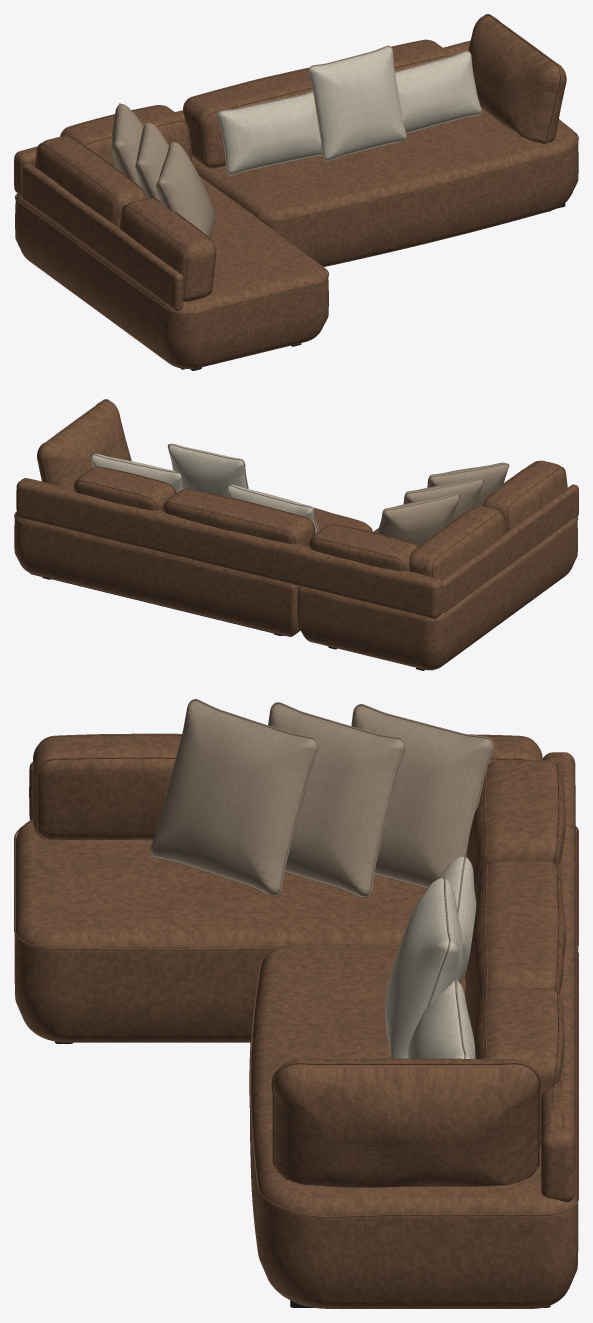
File: corner.glb
The picture shows the model from 3 angles, top to bottom: view 1: azimuth 30°, elevation 25°; view 2: azimuth 150°, elevation 25°; view 3: azimuth 270°, elevation 25°; orthographic projection. The views are drawn at different scales.
Parts seen in each view (by area): view 1: fabric (×2), accent (×3); view 2: fabric (×2), accent (×3); view 3: fabric (×2), accent (×3).
Boxes of the visible parts, x1,y1,x2,y2 form: fabric (×2): (14, 14, 578, 368); accent (×3): (111, 45, 481, 237); fabric (×2): (14, 399, 578, 670); accent (×3): (90, 443, 509, 545); fabric (×2): (14, 733, 578, 1308); accent (×3): (150, 699, 493, 1058).
Size of the model in its own units: 3 by 0.9506 by 1.8.
Materials: 6 (5 with a texture image).
